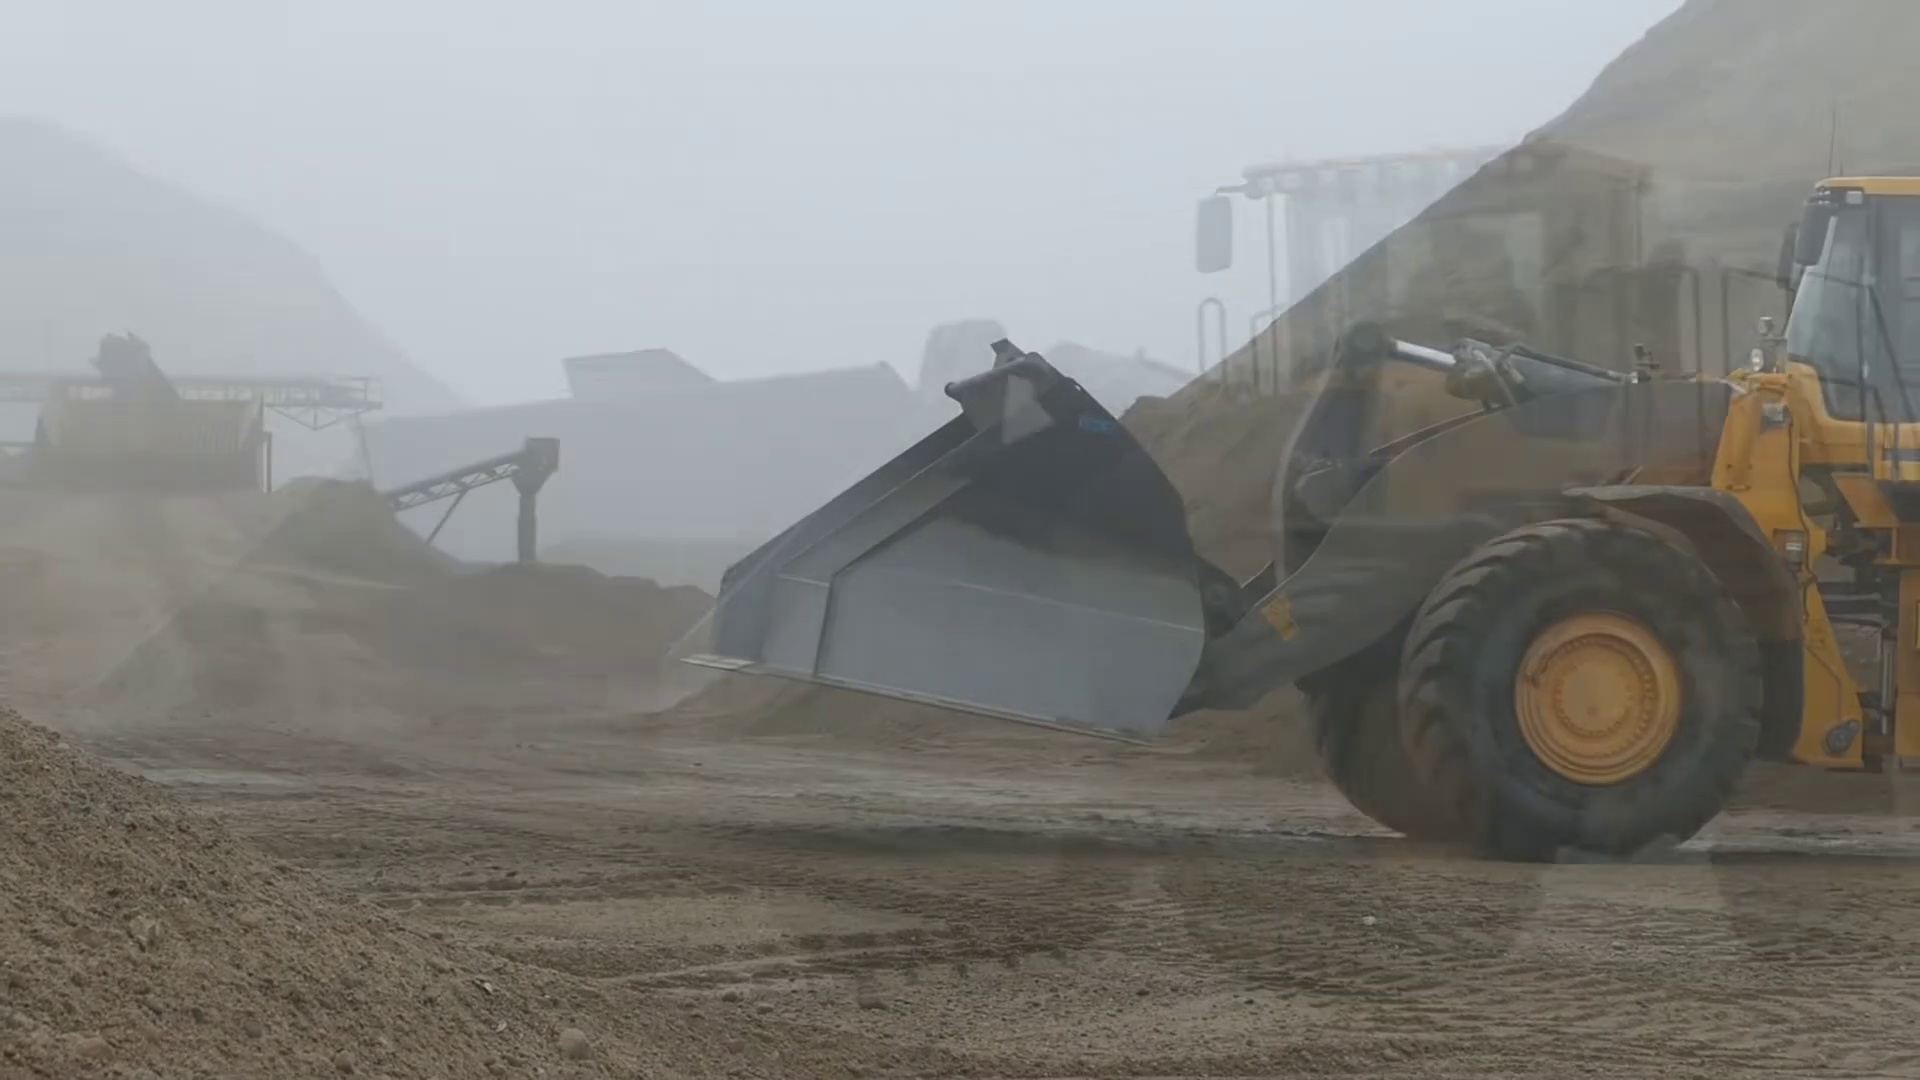wheel loader: (696, 173, 1920, 851)
